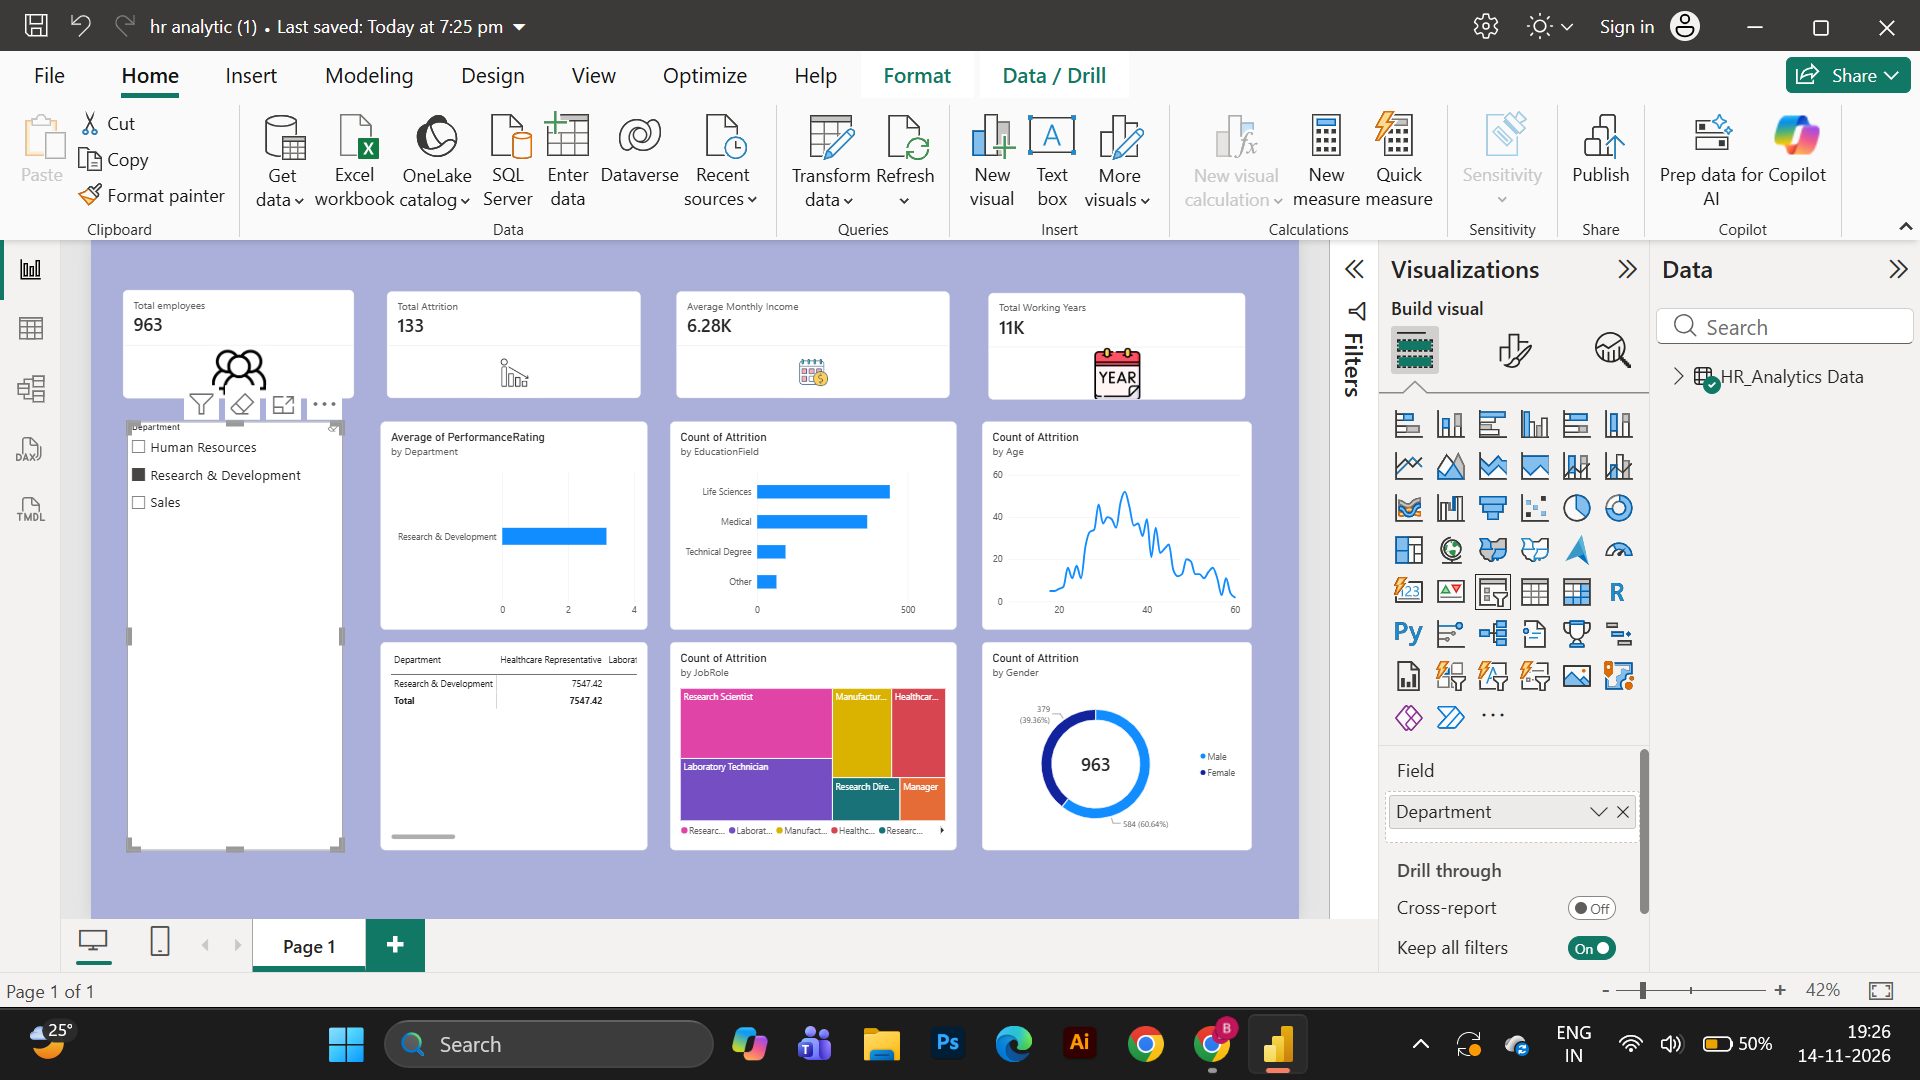

Layout of this report page (visuals, bound fields, positions):
{"tool":"powerbi","page":{"name":"Page 1","canvas":[1920,1080],"ordinal":0},"visuals":[{"type":"slicer","fields":{"Values":["HR_Analytics Data.Department"]},"box":[57.3,288.7,343.6,682.4],"z":0},{"type":"donutChart","fields":{"Category":["HR_Analytics Data.Gender"],"Y":["CountNonNull(HR_Analytics Data.Attrition)"]},"box":[1417.2,639.4,429.5,331.6],"z":1000},{"type":"clusteredBarChart","fields":{"Category":["HR_Analytics Data.EducationField"],"Y":["CountNonNull(HR_Analytics Data.Attrition)"]},"box":[921,288.7,455.7,331.6],"z":2000},{"type":"cardVisual","fields":{"Data":["Sum(HR_Analytics Data.EmployeeCount)"]},"box":[40.6,69.2,388.9,193.3],"z":3000},{"type":"cardVisual","fields":{"Data":["HR_Analytics Data.Total Attrition"]},"box":[460.5,71.6,424.7,190.9],"z":4000},{"type":"lineChart","fields":{"Category":["HR_Analytics Data.Age"],"Y":["CountNonNull(HR_Analytics Data.Attrition)"]},"box":[1417.2,288.7,429.5,331.6],"z":5000},{"type":"treemap","fields":{"Group":["HR_Analytics Data.JobRole"],"Values":["CountNonNull(HR_Analytics Data.Attrition)"]},"box":[921,639.4,455.7,331.6],"z":6000},{"type":"cardVisual","fields":{"Data":["HR_Analytics Data.Average Monthly Income"]},"box":[921,71.6,455.7,190.9],"z":7000},{"type":"cardVisual","fields":{"Data":["HR_Analytics Data.Total Working Years"]},"box":[1417.2,74,429.5,190.9],"z":8000},{"type":"pivotTable","fields":{"Columns":["HR_Analytics Data.JobRole"],"Rows":["HR_Analytics Data.Department"],"Values":["Avg(HR_Analytics Data.MonthlyIncome)"]},"box":[460.5,639.4,424.7,331.6],"z":9000},{"type":"barChart","fields":{"Category":["HR_Analytics Data.Department"],"Y":["Avg(HR_Analytics Data.PerformanceRating)"]},"box":[460.5,288.7,424.7,331.6],"z":10000},{"type":"textbox","box":[57,895,281,150],"z":10001},{"type":"textbox","box":[100,100,300,300],"z":10002}]}

Visuals, with their boxes on the page's 1920x1080 design canvas (x1, y1, x2, y2). These are canvas units, not pixel positions in the 1920x1080 screenshot, which may show the page scaled, cropped or inside an application window:
slicer - HR_Analytics Data.Department: box=[57, 289, 401, 971]
donutChart - HR_Analytics Data.Gender x CountNonNull(HR_Analytics Data.Attrition): box=[1417, 639, 1847, 971]
clusteredBarChart - HR_Analytics Data.EducationField x CountNonNull(HR_Analytics Data.Attrition): box=[921, 289, 1377, 620]
cardVisual - Sum(HR_Analytics Data.EmployeeCount): box=[41, 69, 430, 262]
cardVisual - HR_Analytics Data.Total Attrition: box=[460, 72, 885, 262]
lineChart - HR_Analytics Data.Age x CountNonNull(HR_Analytics Data.Attrition): box=[1417, 289, 1847, 620]
treemap - HR_Analytics Data.JobRole x CountNonNull(HR_Analytics Data.Attrition): box=[921, 639, 1377, 971]
cardVisual - HR_Analytics Data.Average Monthly Income: box=[921, 72, 1377, 262]
cardVisual - HR_Analytics Data.Total Working Years: box=[1417, 74, 1847, 265]
pivotTable - HR_Analytics Data.JobRole x HR_Analytics Data.Department: box=[460, 639, 885, 971]
barChart - HR_Analytics Data.Department x Avg(HR_Analytics Data.PerformanceRating): box=[460, 289, 885, 620]
textbox: box=[57, 895, 338, 1045]
textbox: box=[100, 100, 400, 400]
